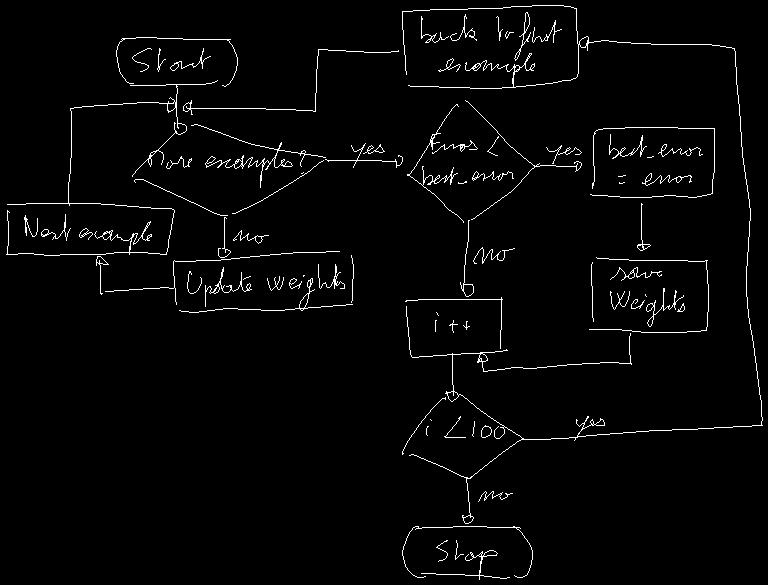arrow: (524, 36, 762, 439), (183, 49, 398, 114), (68, 97, 175, 205), (477, 333, 631, 371), (96, 256, 173, 294), (460, 220, 473, 296), (325, 155, 402, 167), (445, 353, 458, 401), (637, 203, 650, 250), (174, 84, 186, 134), (462, 477, 473, 523), (218, 217, 230, 257), (533, 161, 581, 171)
decision: (132, 124, 325, 215), (407, 100, 539, 222), (402, 394, 525, 478)
process: (402, 5, 578, 88), (173, 251, 353, 312), (589, 257, 708, 332), (6, 203, 174, 255), (590, 127, 714, 197), (405, 297, 507, 357)
terminator: (402, 526, 532, 578), (116, 37, 237, 86)
text: (421, 12, 561, 87), (187, 264, 344, 310), (148, 142, 305, 187), (24, 214, 151, 254), (609, 134, 702, 185), (422, 133, 513, 184), (610, 267, 684, 326), (436, 540, 497, 579), (132, 48, 210, 71), (426, 416, 504, 438), (351, 143, 384, 167), (574, 416, 604, 440), (435, 312, 469, 332), (473, 247, 514, 263), (546, 145, 581, 163), (233, 230, 268, 243), (478, 491, 512, 501)
